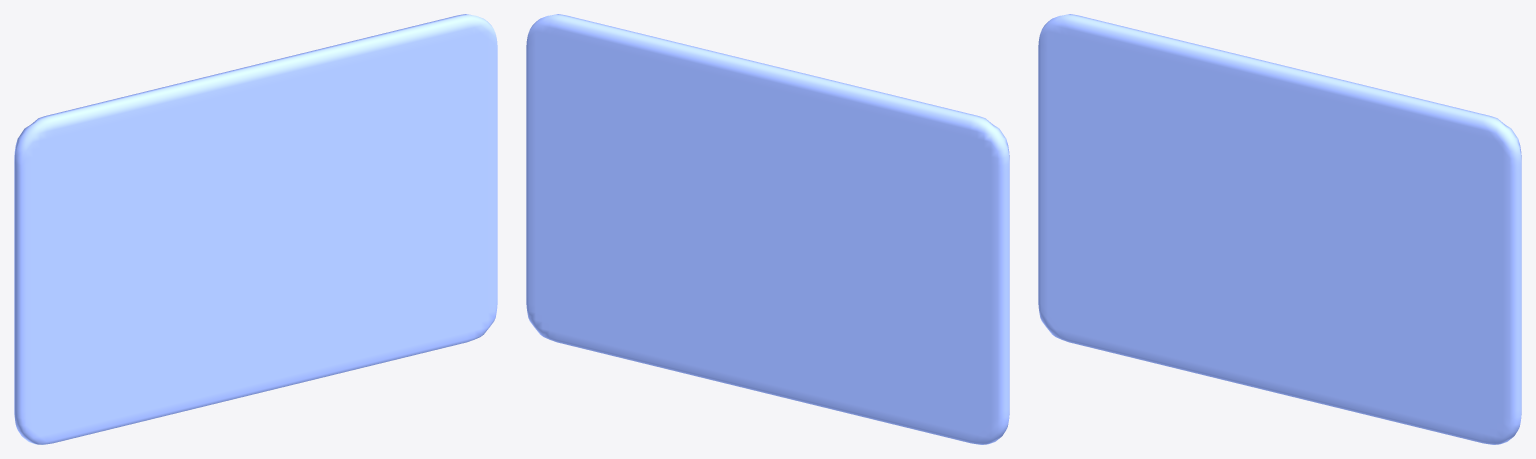
File: 098_right_binocular_ar_waveguide.glb
The picture shows the model from 3 angles, left to right: view 1: azimuth 30°, elevation 25°; view 2: azimuth 150°, elevation 25°; view 3: azimuth 330°, elevation 25°; orthographic projection.
Parts seen in each view (by area): view 1: 098 | Right Binocular AR Waveguide; view 2: 098 | Right Binocular AR Waveguide; view 3: 098 | Right Binocular AR Waveguide.
Part boxes in pixels (bbox=[...]): 098 | Right Binocular AR Waveguide: bbox=[14, 14, 497, 444]; 098 | Right Binocular AR Waveguide: bbox=[526, 14, 1009, 444]; 098 | Right Binocular AR Waveguide: bbox=[1038, 14, 1521, 444].
Size of the model in its own units: 0.021 by 0.0136 by 0.0007.
